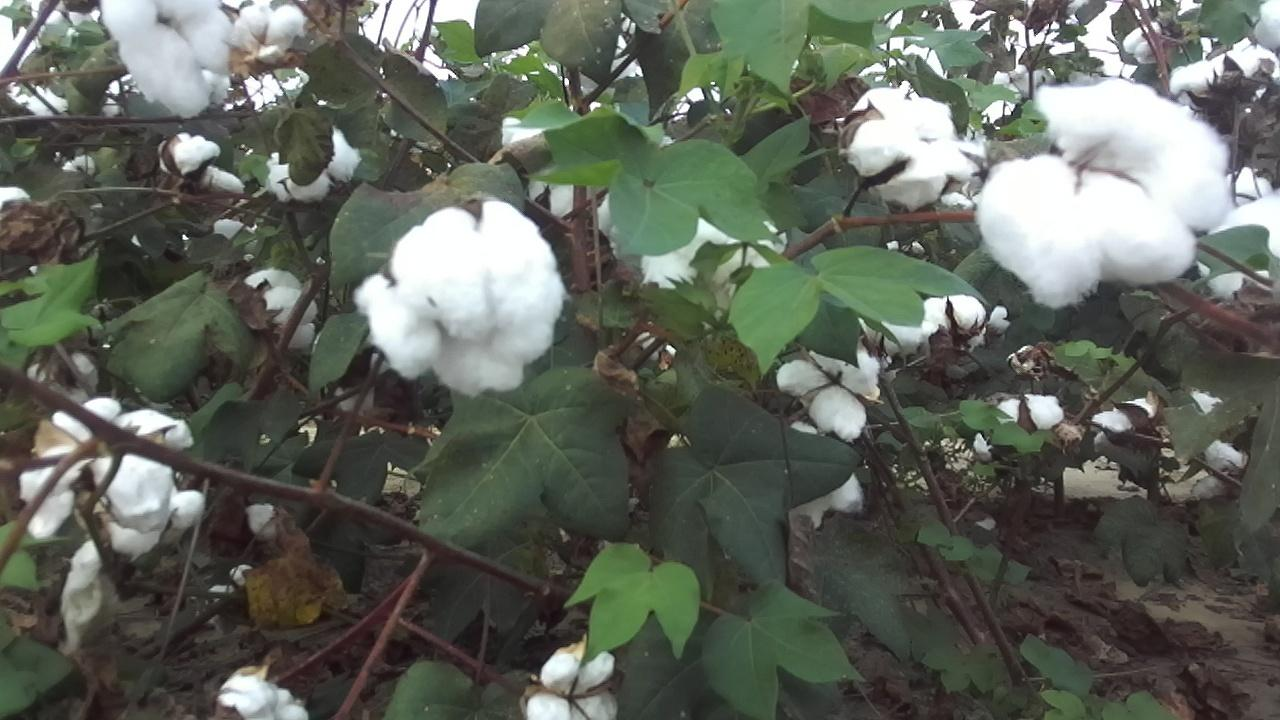cotton_ready: (978, 80, 1229, 309), (355, 197, 567, 399), (17, 395, 197, 543), (844, 82, 973, 207), (101, 0, 232, 119), (777, 339, 878, 442), (523, 640, 619, 720), (877, 294, 990, 359), (219, 670, 309, 720)
